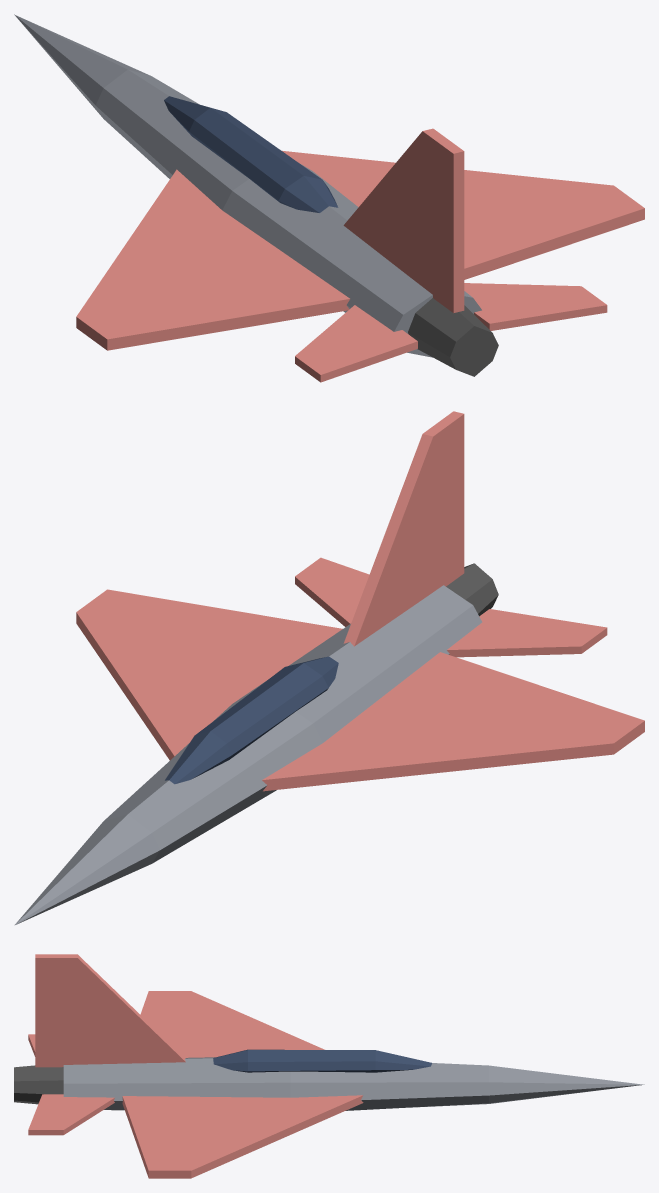
File: enemy_mysliwiec.glb
3 views of the same model, one above another, from view 1: azimuth 30°, elevation 25°; view 2: azimuth 150°, elevation 25°; view 3: azimuth 270°, elevation 25° (orthographic). The views are drawn at different scales.
Parts seen in each view (by area): view 1: E1_Wings, E1_Fuselage, E1_TailFin, E1_Tailplanes, E1_Cockpit, E1_Exhaust; view 2: E1_Wings, E1_Fuselage, E1_TailFin, E1_Tailplanes, E1_Cockpit, E1_Exhaust; view 3: E1_Wings, E1_Fuselage, E1_TailFin, E1_Cockpit, E1_Tailplanes, E1_Exhaust.
Boxes of the visible parts, <box> form: E1_Wings: <box>76,150,644,350</box>; E1_Fuselage: <box>14,14,481,357</box>; E1_TailFin: <box>343,128,464,313</box>; E1_Tailplanes: <box>295,283,607,382</box>; E1_Cockpit: <box>164,96,338,212</box>; E1_Exhaust: <box>408,298,498,376</box>; E1_Wings: <box>76,589,644,791</box>; E1_Fuselage: <box>14,585,482,925</box>; E1_TailFin: <box>343,411,464,646</box>; E1_Tailplanes: <box>295,557,607,657</box>; E1_Cockpit: <box>165,656,338,784</box>; E1_Exhaust: <box>446,563,498,616</box>; E1_Wings: <box>122,991,363,1178</box>; E1_Fuselage: <box>63,1057,644,1110</box>; E1_TailFin: <box>35,954,185,1067</box>; E1_Cockpit: <box>213,1049,431,1072</box>; E1_Tailplanes: <box>28,1034,114,1135</box>; E1_Exhaust: <box>14,1065,63,1104</box>.
Size of the model in its own units: 3 by 1.22 by 4.45.
